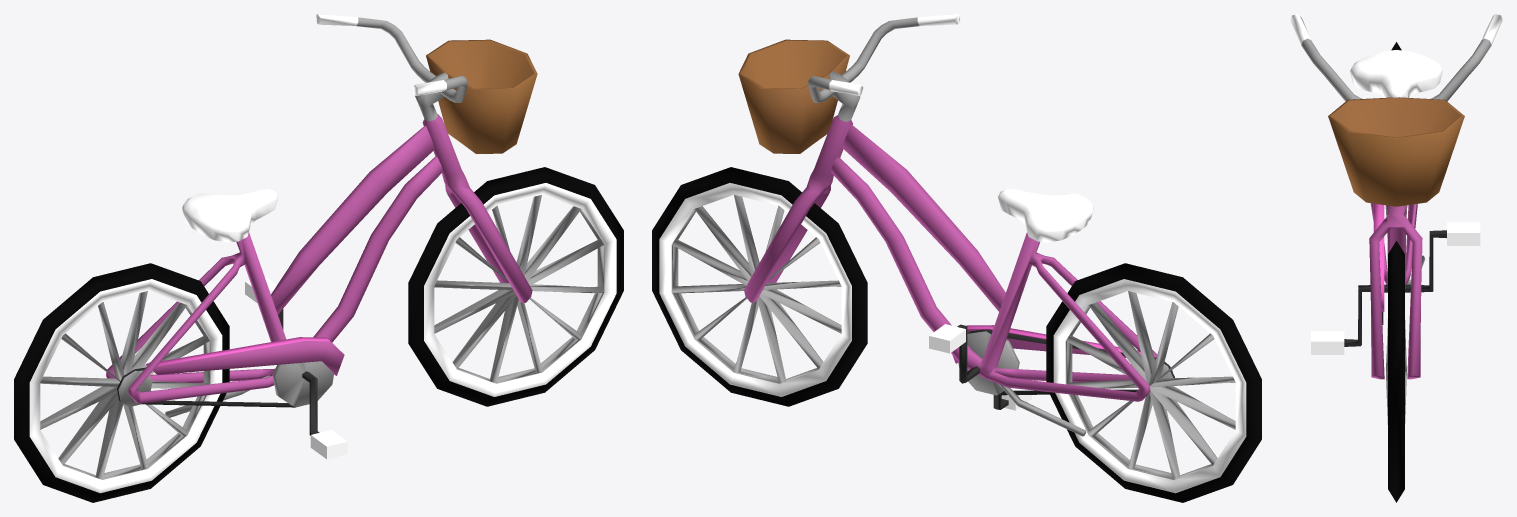
File: BicycleBeachCruiserBasketPink.glb
3 renders of one model, left to right at view 1: azimuth 30°, elevation 25°; view 2: azimuth 150°, elevation 25°; view 3: azimuth 270°, elevation 25°, orthographic. The views are drawn at different scales.
Parts seen in each view (by area): view 1: BicycleBeachCruiserBasketPink; view 2: BicycleBeachCruiserBasketPink; view 3: BicycleBeachCruiserBasketPink.
Part boxes in pixels (x1=…): BicycleBeachCruiserBasketPink: x1=14, y1=14, x2=623, y2=502; BicycleBeachCruiserBasketPink: x1=652, y1=14, x2=1261, y2=502; BicycleBeachCruiserBasketPink: x1=1290, y1=14, x2=1502, y2=502.
Bounding box in the file's own units: 2.47 × 1.49 × 0.7197.
1 material, 1 textured.
